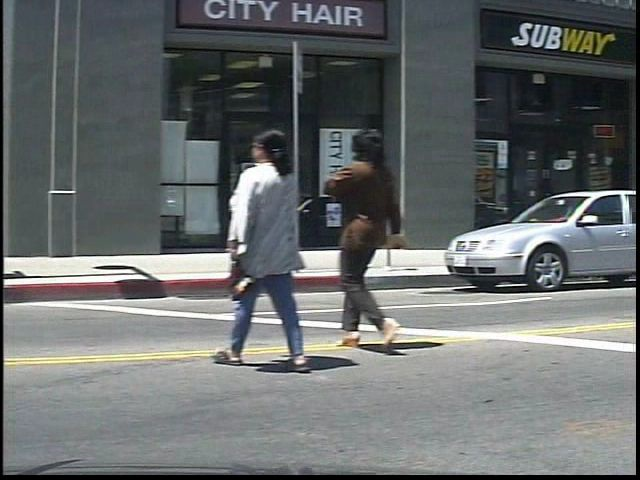person: (228, 123, 325, 373), (332, 122, 424, 355)
